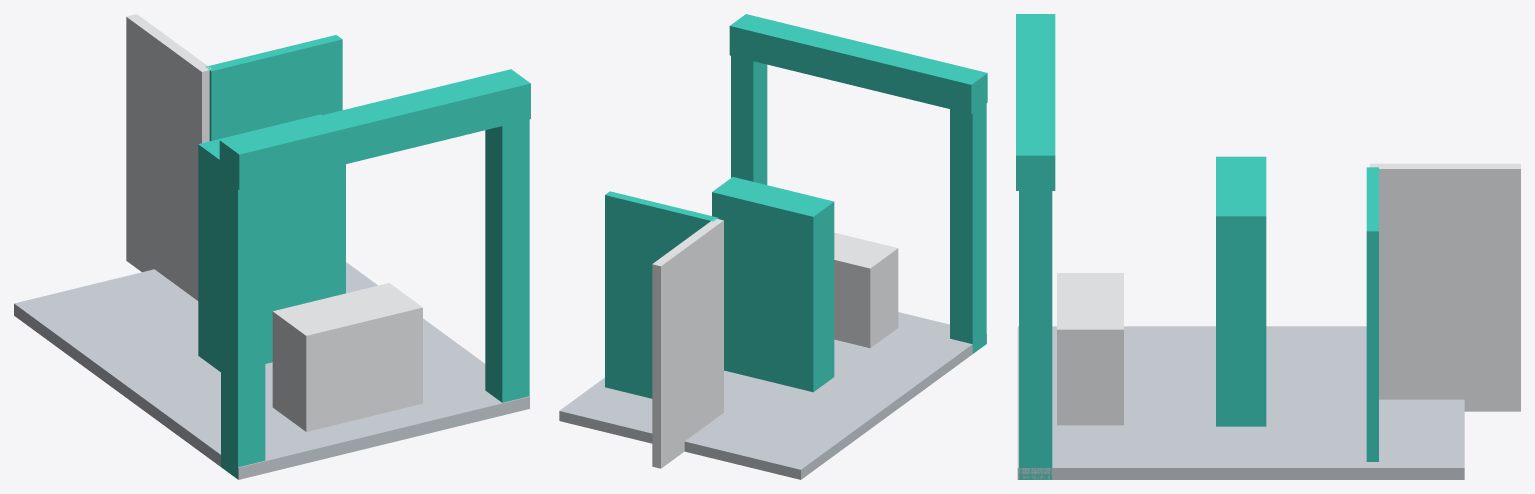
3 renders of one model, left to right at view 1: azimuth 30°, elevation 25°; view 2: azimuth 150°, elevation 25°; view 3: azimuth 270°, elevation 25°, orthographic. The views are drawn at different scales.
Parts seen in each view (by area): view 1: Exhibition Booth Concept; view 2: Exhibition Booth Concept; view 3: Exhibition Booth Concept.
Boxes of the visible parts, left/top/right/bottom form: Exhibition Booth Concept: left=14, top=14, right=530, bottom=479; Exhibition Booth Concept: left=559, top=14, right=987, bottom=479; Exhibition Booth Concept: left=1016, top=14, right=1520, bottom=479.
Bounding box in the file's own units: 3 × 3.2 × 4.52.
